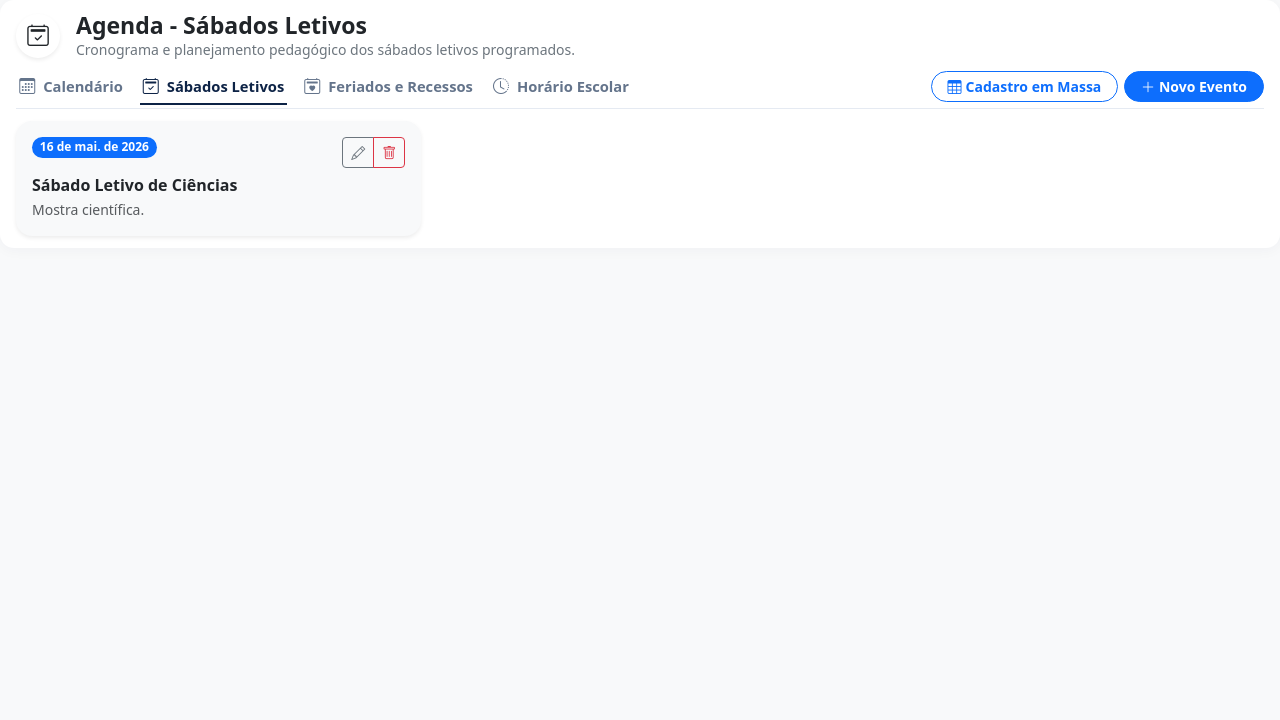
AgendaPage › exibe botão Cadastro em Massa para Especialista e abre o modal ao clicar
Expected: the heading "Sábado Letivo de Ciências" is shown, x1=32 y1=174 x2=238 y2=196
Click the button "Cadastro em Massa": (1024, 87) x1=930 y1=71 x2=1118 y2=102
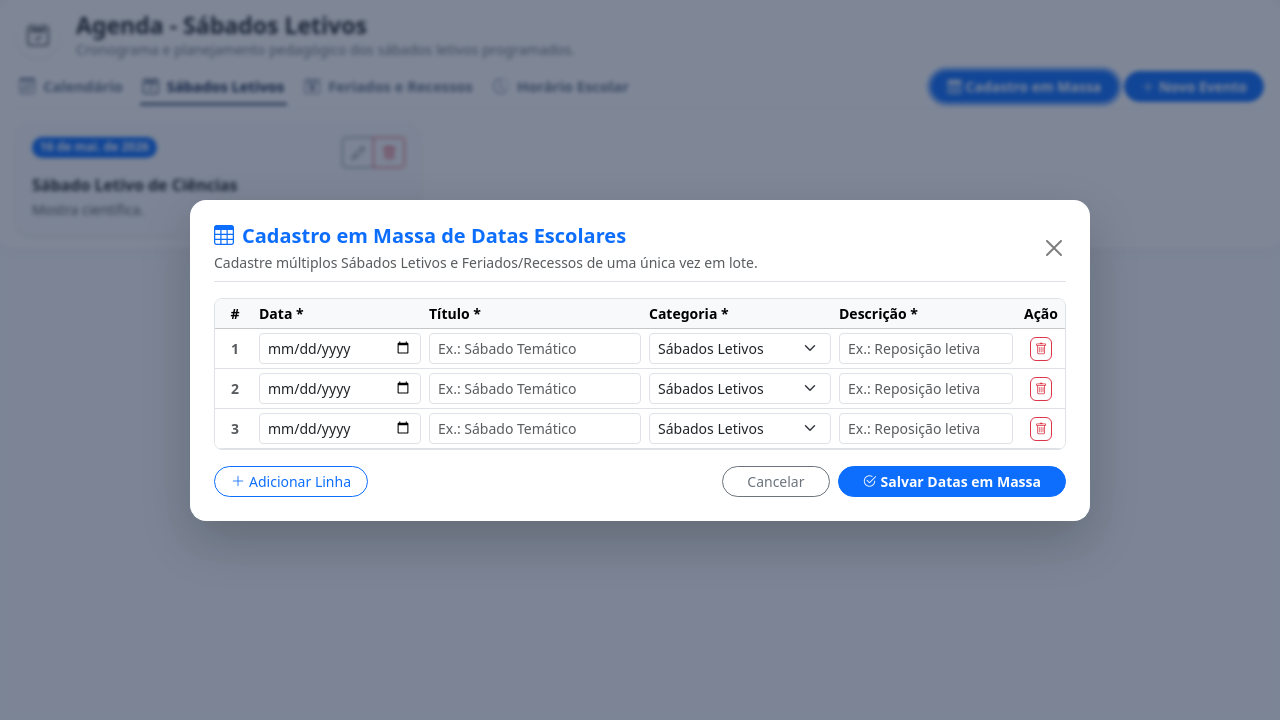
Expected: the heading "Cadastro em Massa de Datas Escolares" is shown, x1=214 y1=222 x2=626 y2=248
